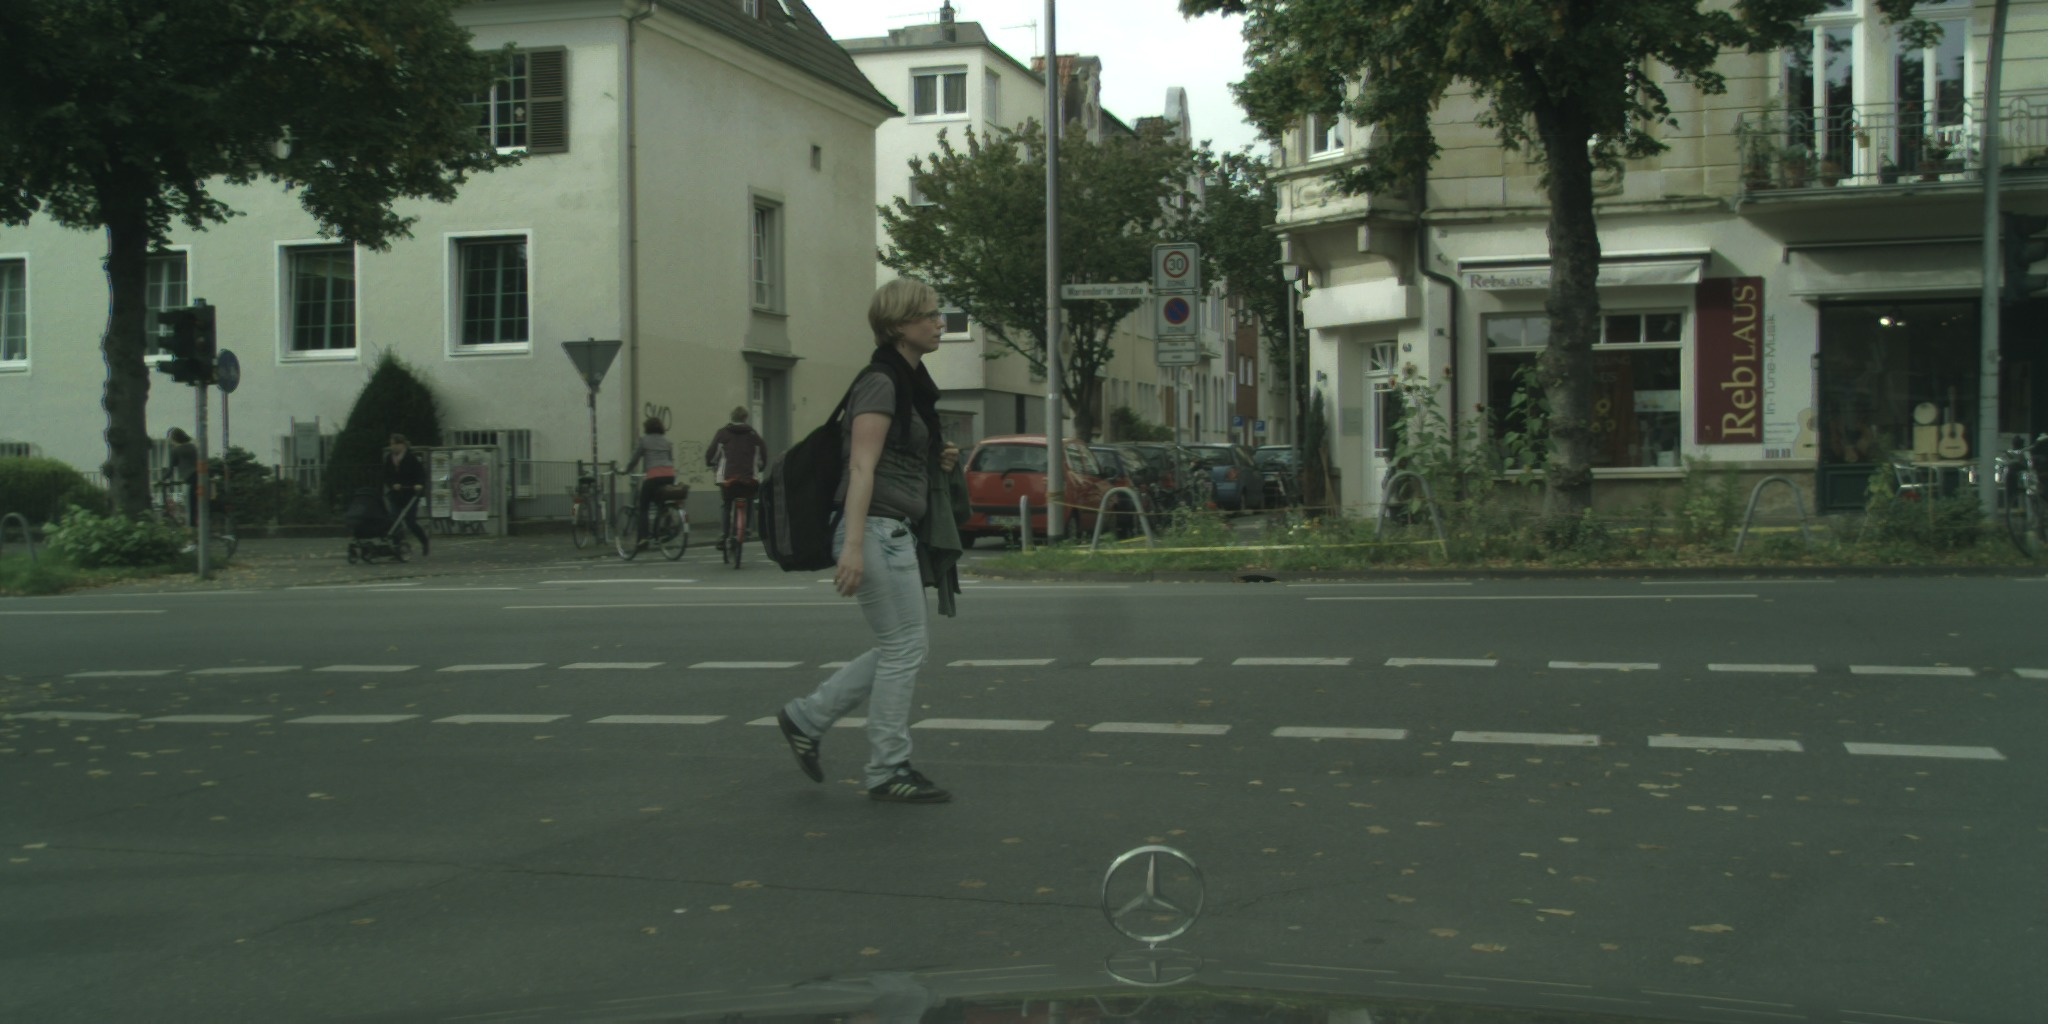bicycle: (610, 470, 692, 562), (146, 476, 241, 549), (2004, 430, 2047, 560), (565, 469, 617, 549), (721, 477, 760, 571)
car: (948, 433, 1120, 549), (1077, 442, 1179, 541), (1102, 441, 1217, 517), (1176, 441, 1266, 518), (1245, 445, 1318, 514)
person: (755, 277, 974, 803), (379, 435, 430, 559)
rider: (703, 406, 770, 552), (616, 417, 675, 553), (2004, 430, 2047, 560), (159, 427, 201, 555)
